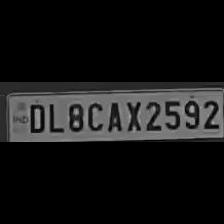2: (200, 96, 220, 130), (142, 98, 160, 132)
5: (161, 97, 181, 131)
8: (64, 100, 84, 132)
9: (181, 96, 199, 130)
A: (104, 98, 124, 132)
C: (85, 98, 105, 132)
D: (25, 101, 45, 133)
L: (46, 100, 62, 132)
X: (123, 98, 143, 132)
